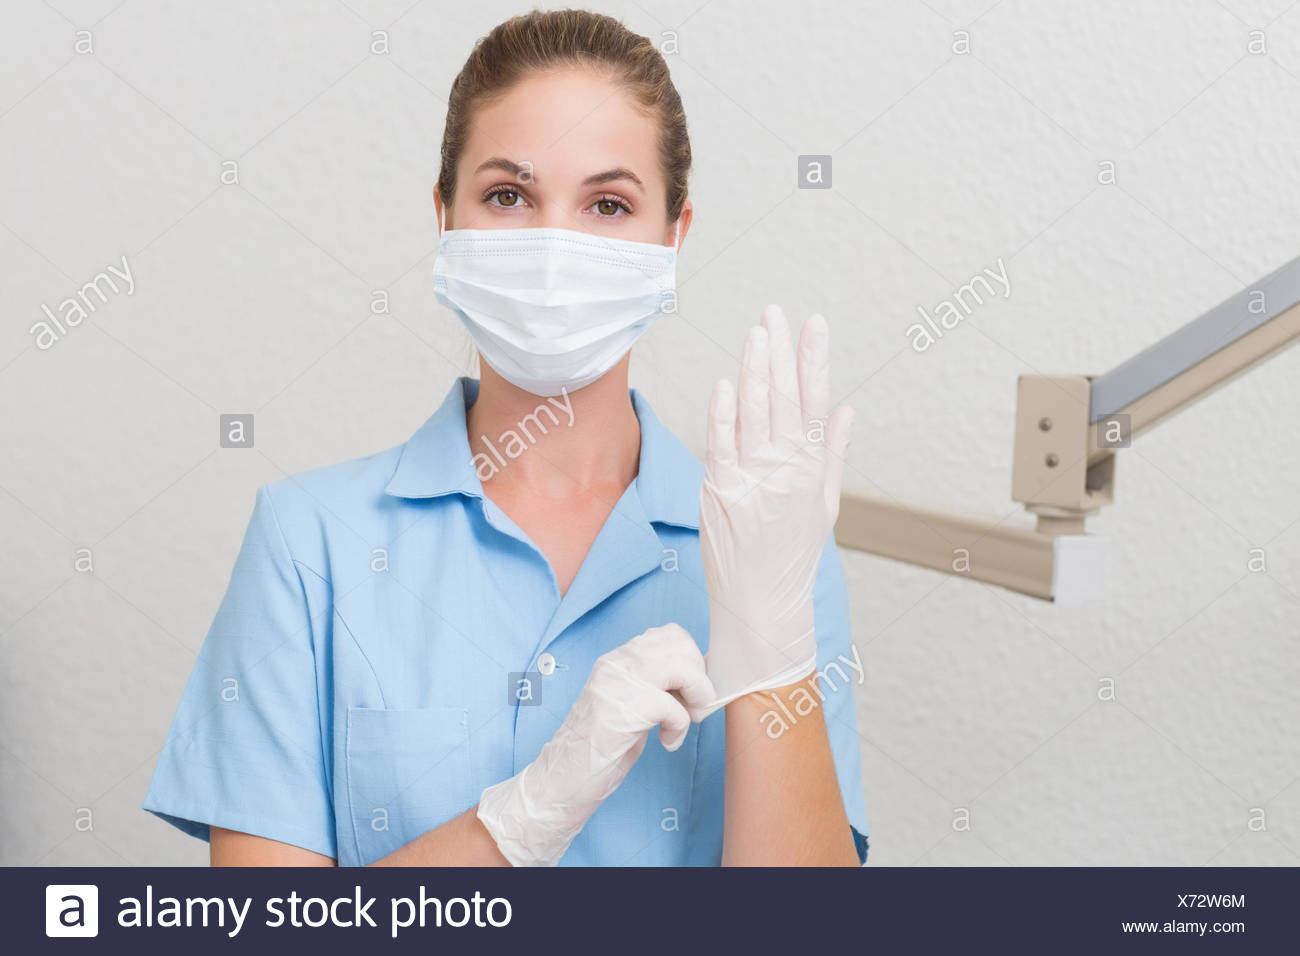mask: (432, 233, 682, 396)
